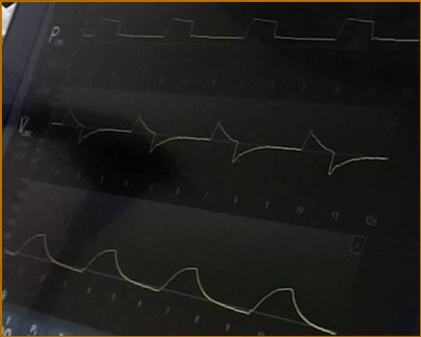Normal Flow: (54, 101, 393, 177)
Normal Volume: (6, 231, 336, 337)
